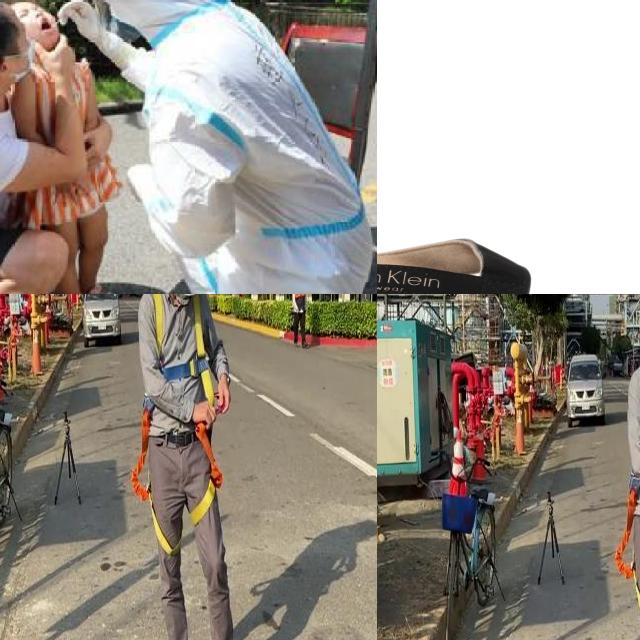Harness: (131, 399, 181, 556), (152, 294, 214, 404), (190, 424, 224, 526), (615, 485, 640, 612)
Sandals: (377, 230, 640, 294)
face_nomask: (17, 1, 62, 53)
hand_glove: (57, 0, 101, 45)
hand_noglove: (30, 33, 78, 78), (83, 129, 108, 164), (51, 184, 88, 207)
person: (66, 0, 377, 294)
